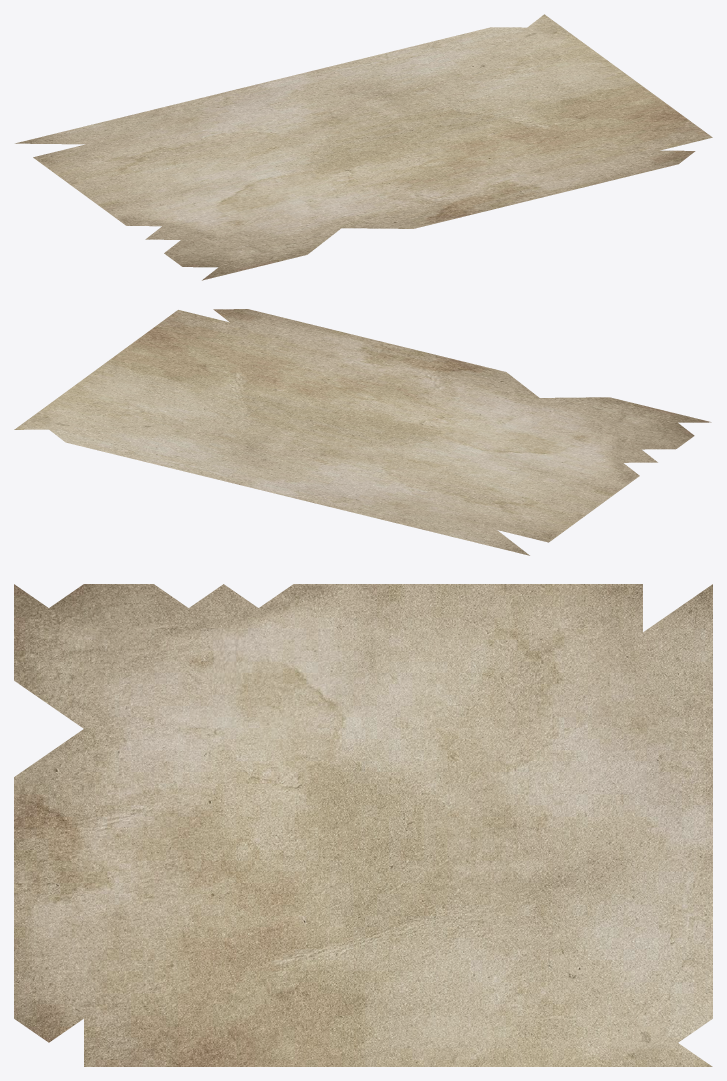
File: contract paper.fbx
3 renders of one model, top to bottom at view 1: azimuth 30°, elevation 25°; view 2: azimuth 150°, elevation 25°; view 3: azimuth 270°, elevation 25°, orthographic. The views are drawn at different scales.
Parts seen in each view (by area): view 1: pPlane1; view 2: pPlane1; view 3: pPlane1.
Boxes of the visible parts, x1=… form: pPlane1: x1=15, y1=14, x2=712, y2=280; pPlane1: x1=14, y1=309, x2=711, y2=555; pPlane1: x1=14, y1=584, x2=712, y2=1066.
Size of the model in its own units: 2.16 by 0 by 1.32.
